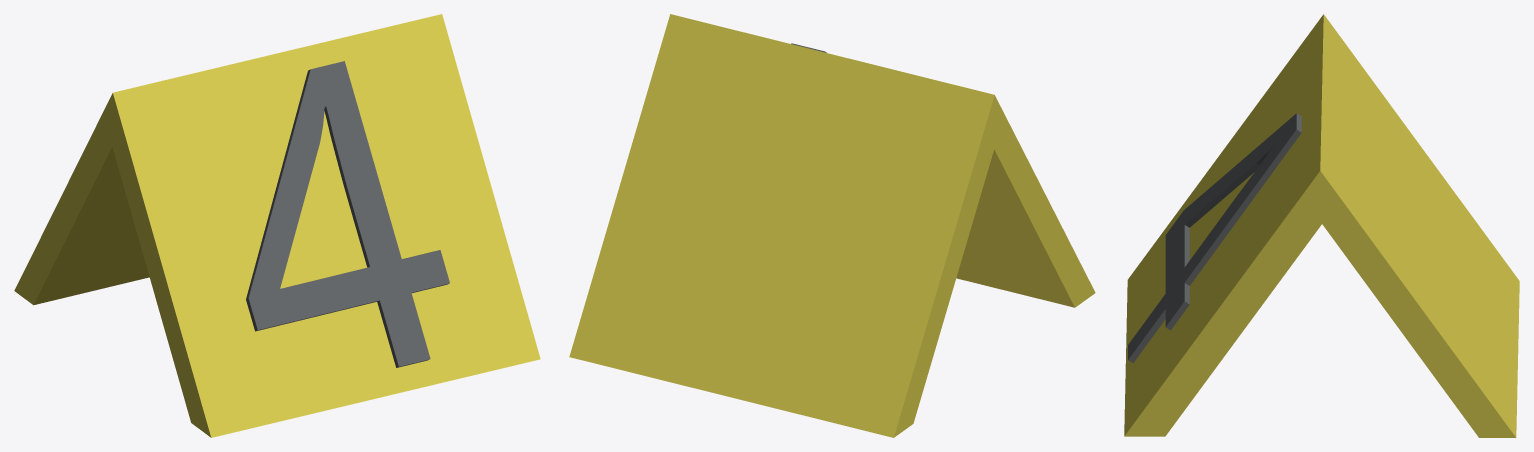
The model's file is bord4.gltf.
3 views of the same model, side by side, from view 1: azimuth 30°, elevation 25°; view 2: azimuth 150°, elevation 25°; view 3: azimuth 270°, elevation 25° (orthographic).
Visible parts, largest first — view 1: Mesh_Mesh_head_geo.001_lambert2SG.001; view 2: Mesh_Mesh_head_geo.001_lambert2SG.001; view 3: Mesh_Mesh_head_geo.001_lambert2SG.001.
Part boxes in pixels (box(x1,y1,x2,y2)): Mesh_Mesh_head_geo.001_lambert2SG.001: box(14, 14, 540, 437); Mesh_Mesh_head_geo.001_lambert2SG.001: box(569, 14, 1095, 437); Mesh_Mesh_head_geo.001_lambert2SG.001: box(1124, 14, 1519, 437).
Bounding box in the file's own units: 19.09 × 15 × 20.17.
